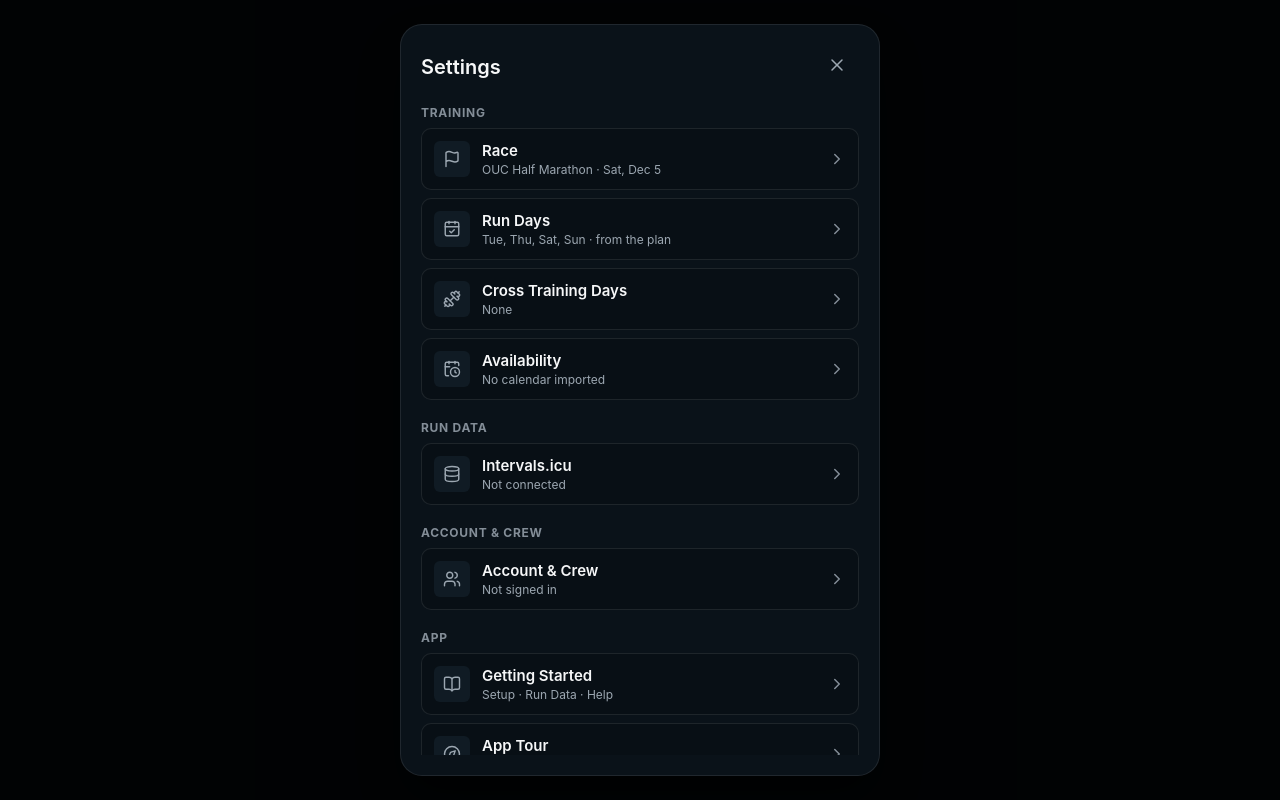
Test: setting up the race › refuses a date that has already gone
The width and height of the screenshot is (1280, 800).
Step 1. Click the button "Race OUC Half Marathon · Sat, Dec 5" → (640, 159), box [421, 128, 859, 190]
(page scrolled)
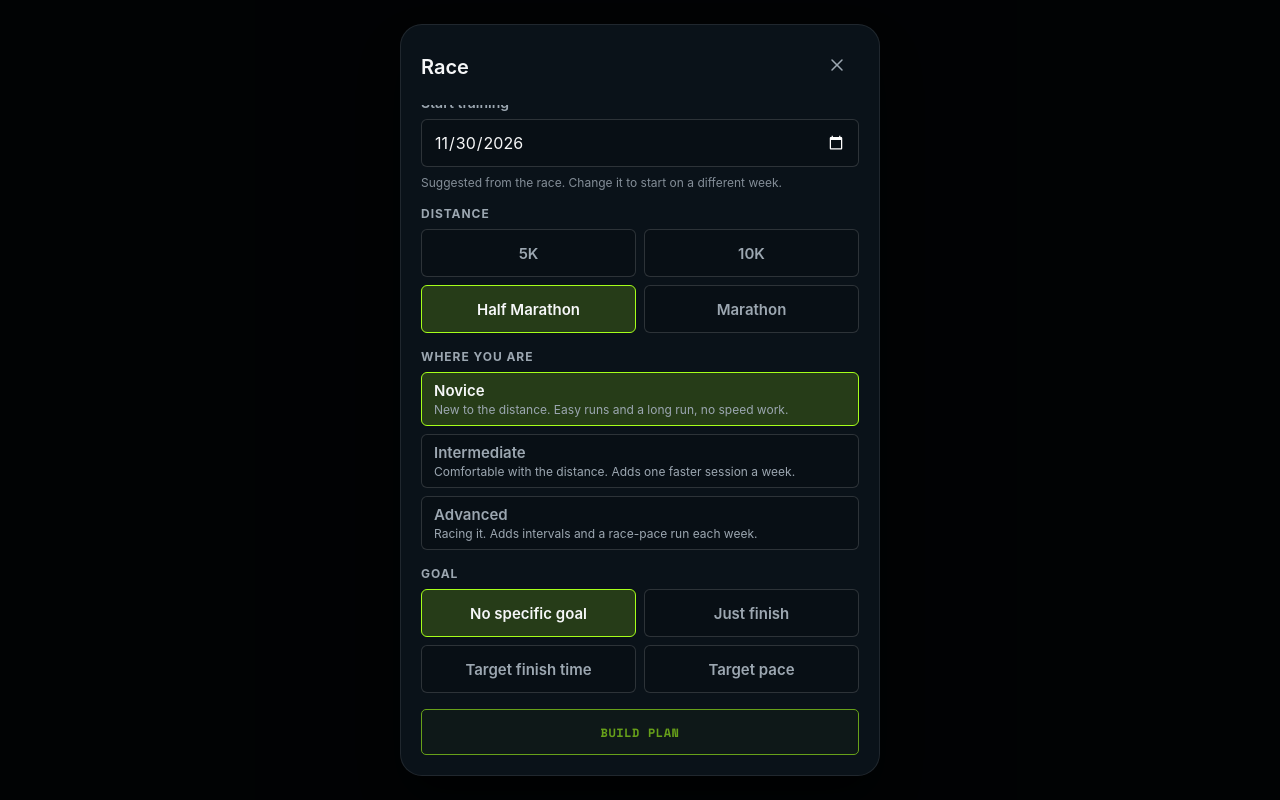
Result: the button "Build Plan" is disabled at [421, 709, 859, 755]
